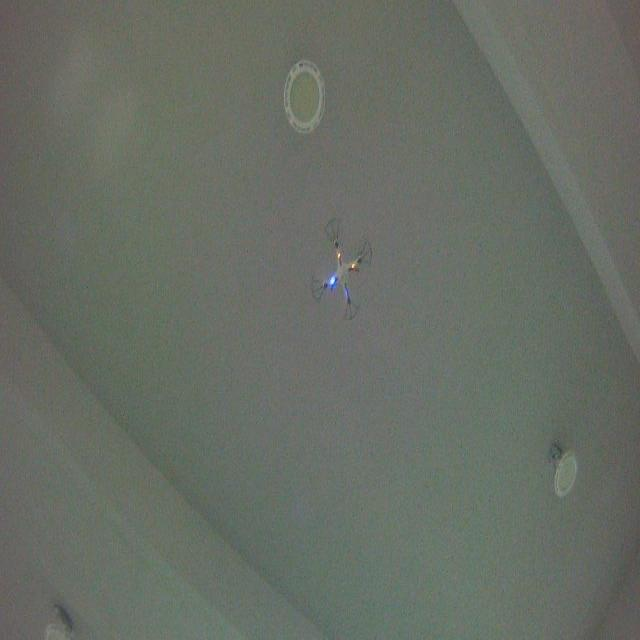drone: (307, 214, 374, 326)
